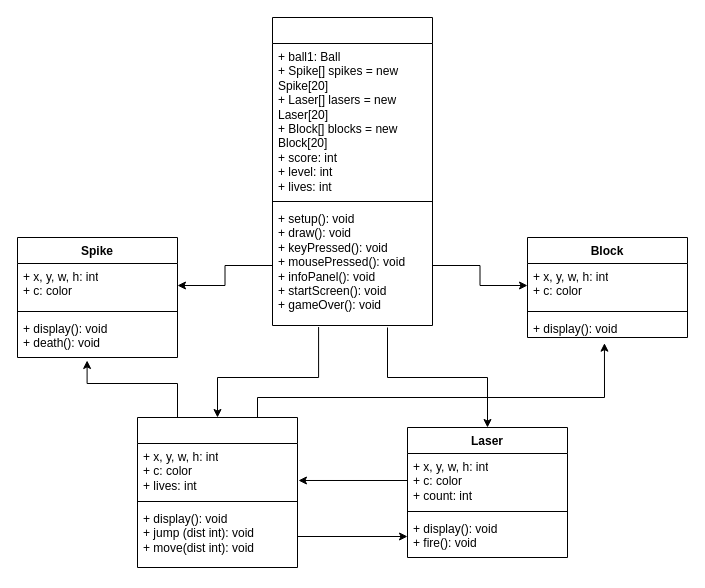
This 705x588 diagram has some shape labels left out. Each missing label, with the box of its shape:
Ball: (136, 416, 298, 568)
Laser Strike: (272, 16, 432, 326)
